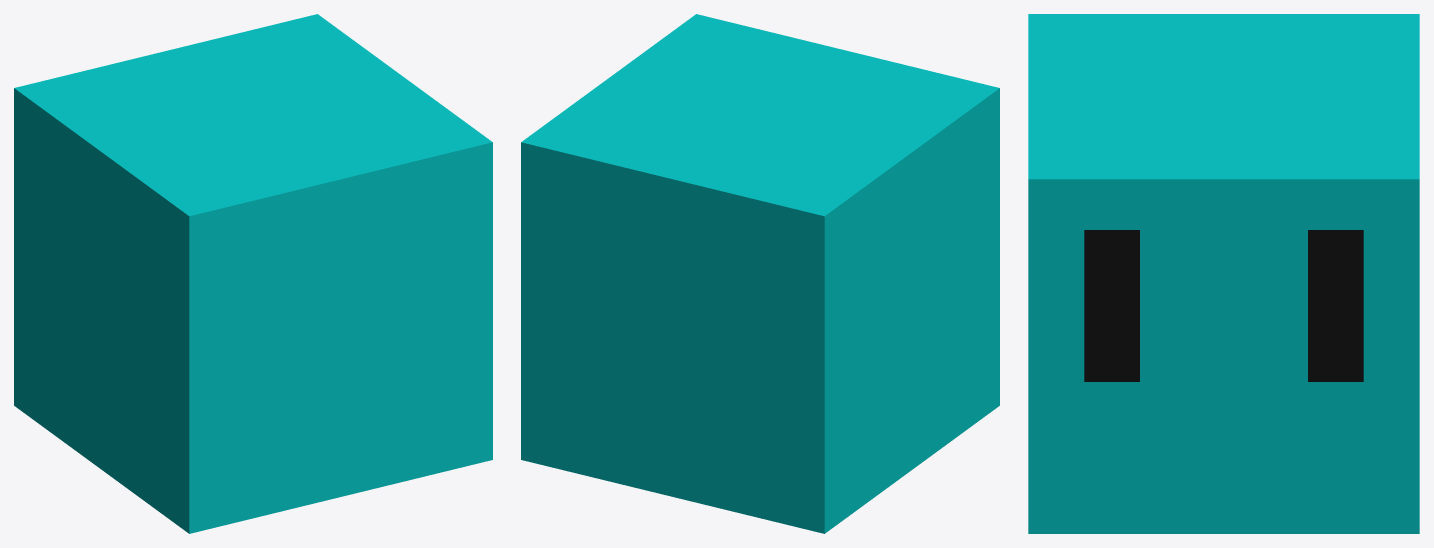
File: Cuby.gltf
The picture shows the model from 3 angles, left to right: view 1: azimuth 30°, elevation 25°; view 2: azimuth 150°, elevation 25°; view 3: azimuth 270°, elevation 25°; orthographic projection. The views are drawn at different scales.
Parts seen in each view (by area): view 1: Cuby; view 2: Cuby; view 3: Cuby.
Boxes of the visible parts, x1,y1,x2,y2 form: Cuby: (14, 14, 492, 533); Cuby: (521, 14, 999, 533); Cuby: (1028, 14, 1419, 533).
Size of the model in its own units: 0.7 by 0.7 by 0.7.
1 material, 1 textured.
